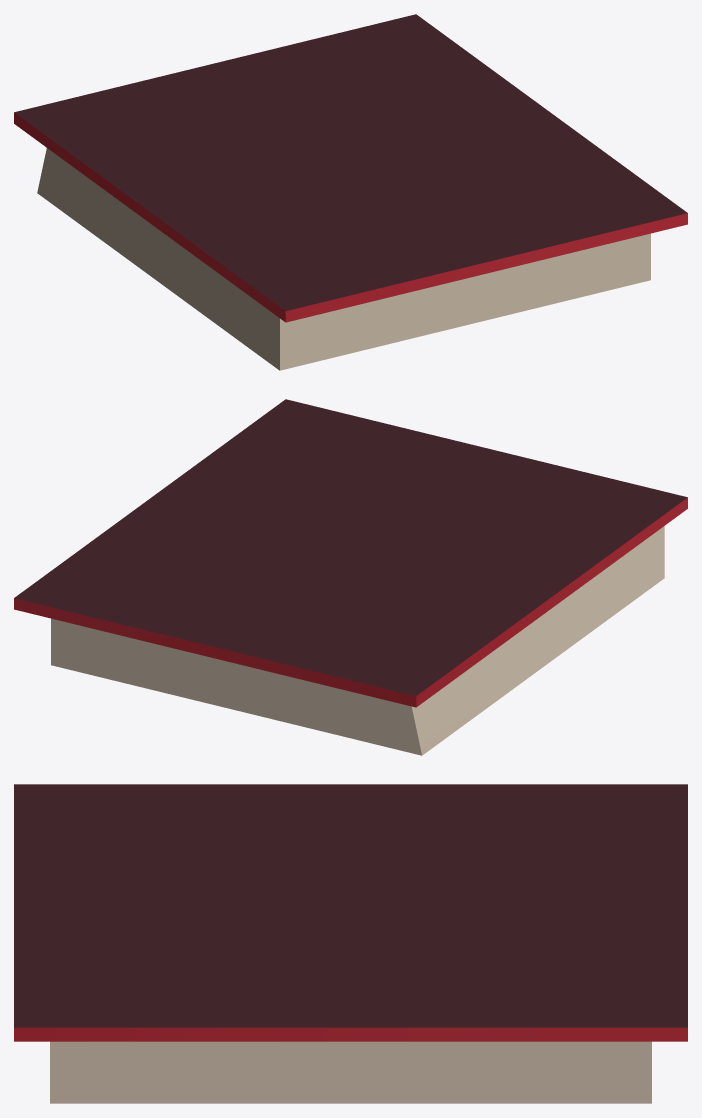
File: postoffice_stage.fbx
3 views of the same model, one above another, from view 1: azimuth 30°, elevation 25°; view 2: azimuth 150°, elevation 25°; view 3: azimuth 270°, elevation 25° (orthographic). The views are drawn at different scales.
Parts seen in each view (by area): view 1: polySurface932; view 2: polySurface932; view 3: polySurface932.
Part boxes in pixels (x1,y1,x2,y2): polySurface932: (14, 14, 687, 370); polySurface932: (14, 399, 687, 755); polySurface932: (14, 784, 687, 1103).
Size of the model in its own units: 28.83 by 4.95 by 33.74.
1 material, 1 textured.
